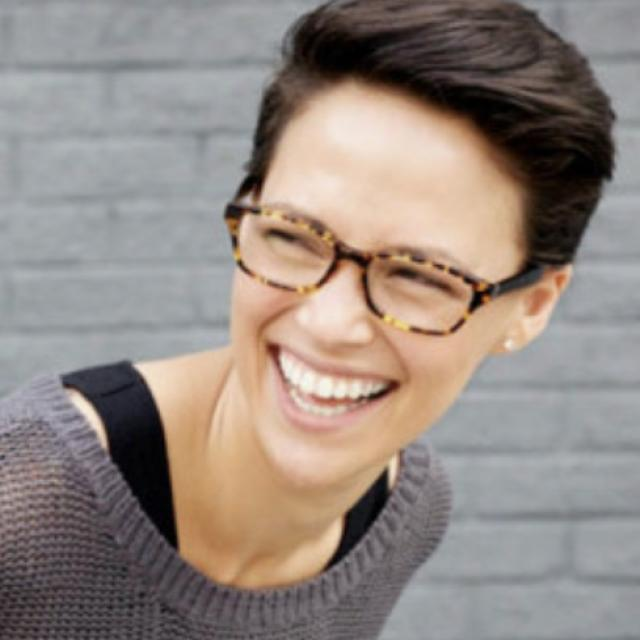happy: (190, 4, 577, 482)
